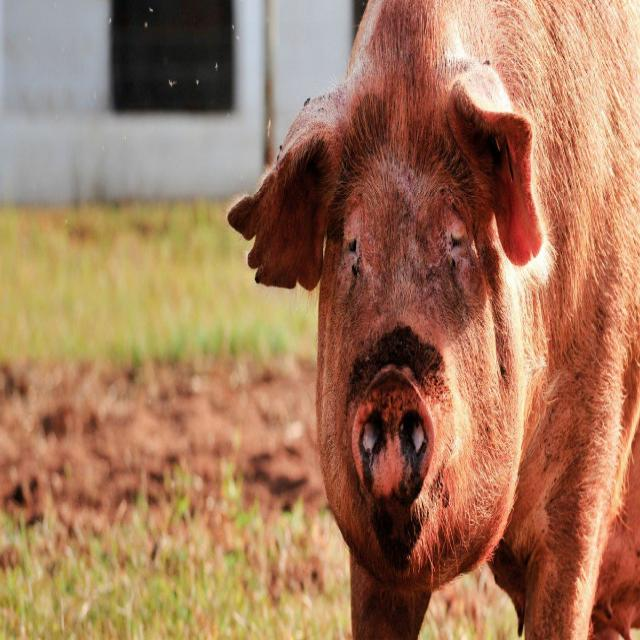Pig: (224, 0, 640, 640)
